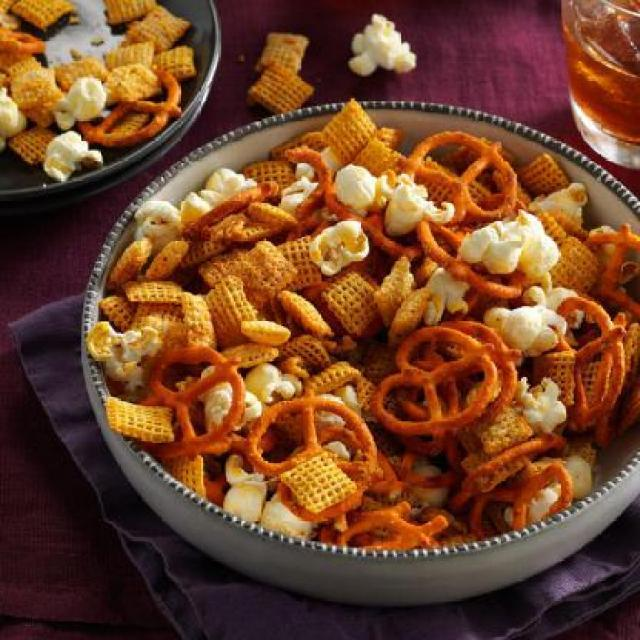Popcorn: (340, 12, 426, 82)
Salatini packaged: (124, 122, 621, 560), (0, 1, 191, 147)
